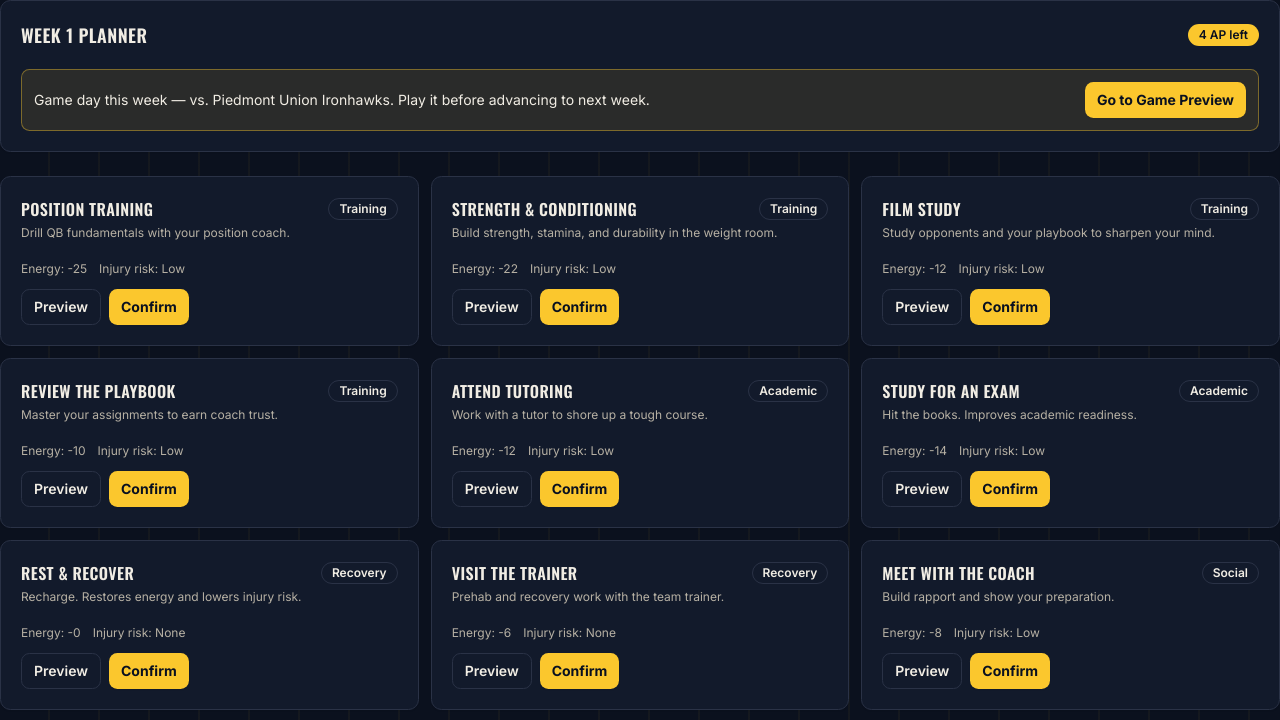
Test: WeeklyPlannerPage › confirming an action decrements action points and marks it done
The width and height of the screenshot is (1280, 720).
Click the button "Confirm" below "25" at (149, 307), box [109,289,189,325]
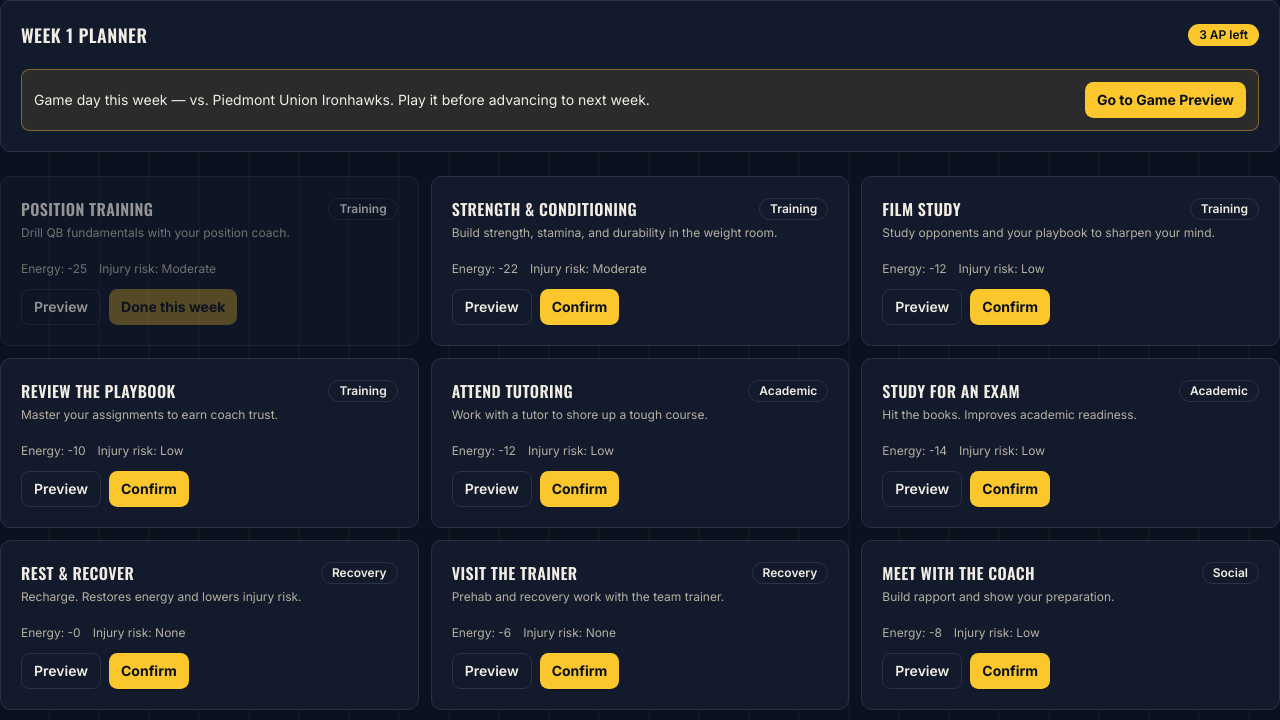
Check: the number of buttons "Done this week" is 1, box [109,289,237,325]
Check: the text "3 AP left" is shown, box [1188,24,1259,46]
